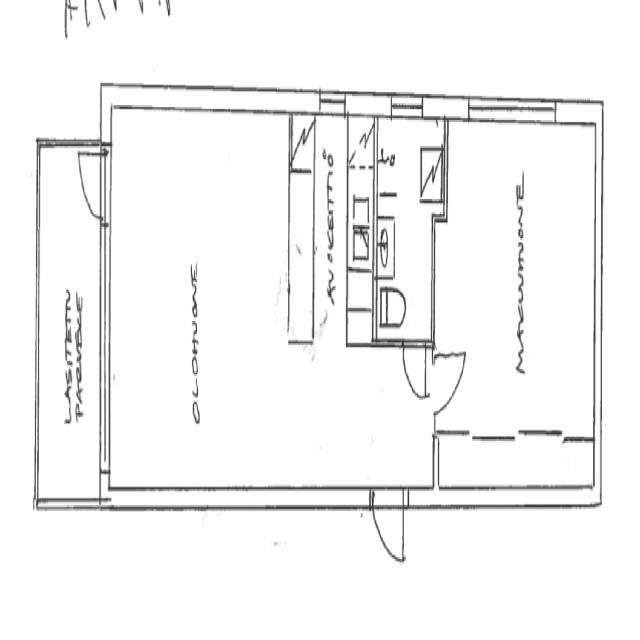door: (370, 483, 410, 572), (431, 345, 469, 418), (77, 145, 109, 225), (400, 337, 430, 403)
window: (465, 95, 564, 129), (389, 92, 425, 124), (318, 85, 348, 115)
zone: (109, 100, 288, 500), (435, 114, 599, 453), (34, 136, 106, 522), (289, 108, 374, 362), (375, 112, 439, 347)
